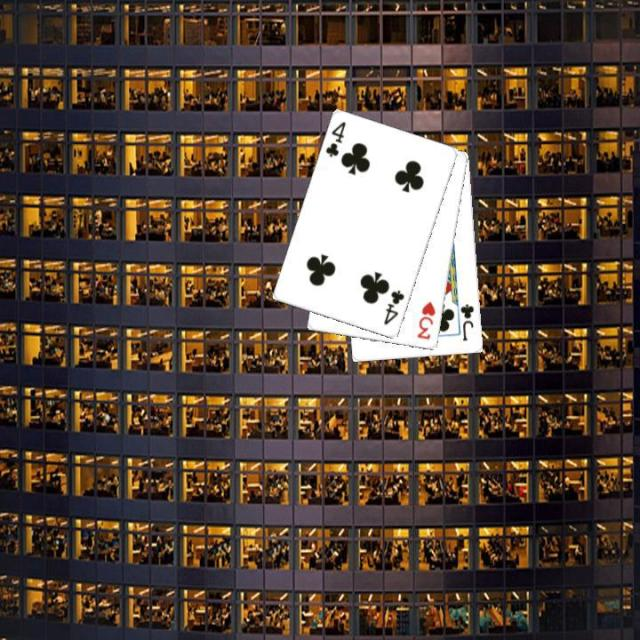3H: (413, 298, 438, 341)
4C: (322, 118, 348, 159), (381, 286, 406, 327)
JC: (457, 301, 476, 343)
